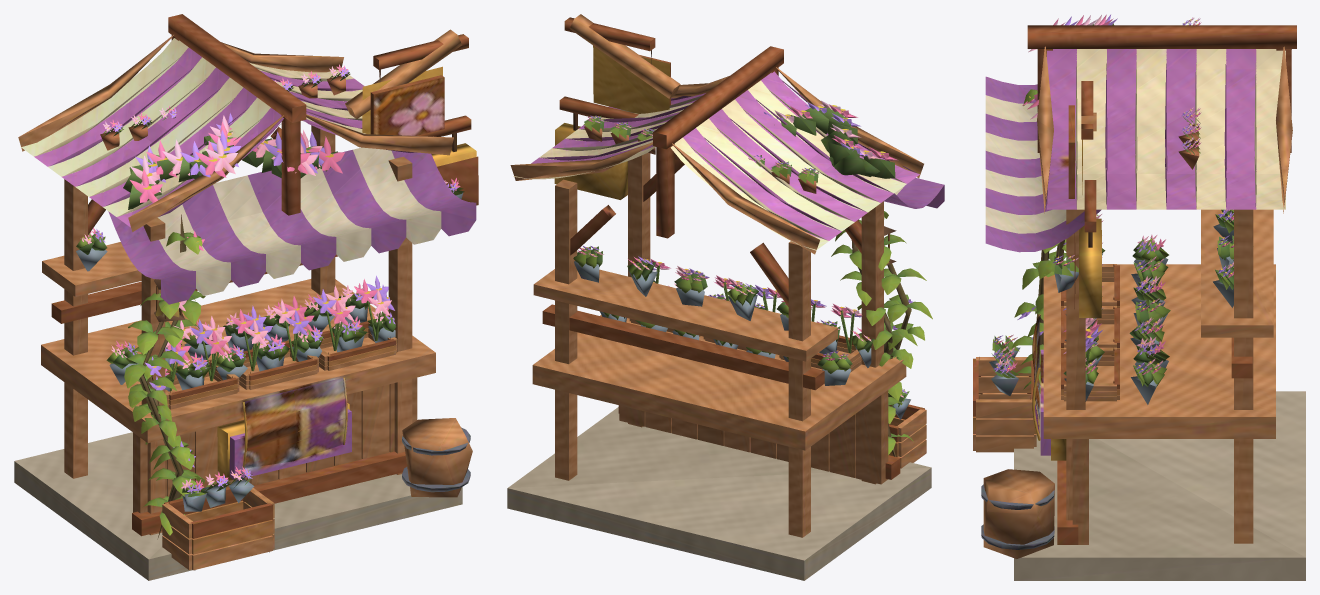
The model's file is stall_flowers.glb.
3 renders of one model, left to right at view 1: azimuth 30°, elevation 25°; view 2: azimuth 150°, elevation 25°; view 3: azimuth 270°, elevation 25°, orthographic. The views are drawn at different scales.
Visible parts, largest first — view 1: Body; view 2: Body; view 3: Body.
Boxes of the visible parts, left/top/right/bottom form: Body: left=14, top=14, right=478, bottom=580; Body: left=507, top=14, right=944, bottom=580; Body: left=973, top=14, right=1305, bottom=580.
Size of the model in its own units: 2.87 by 3.27 by 2.06.
Materials: 1 (1 with a texture image).
